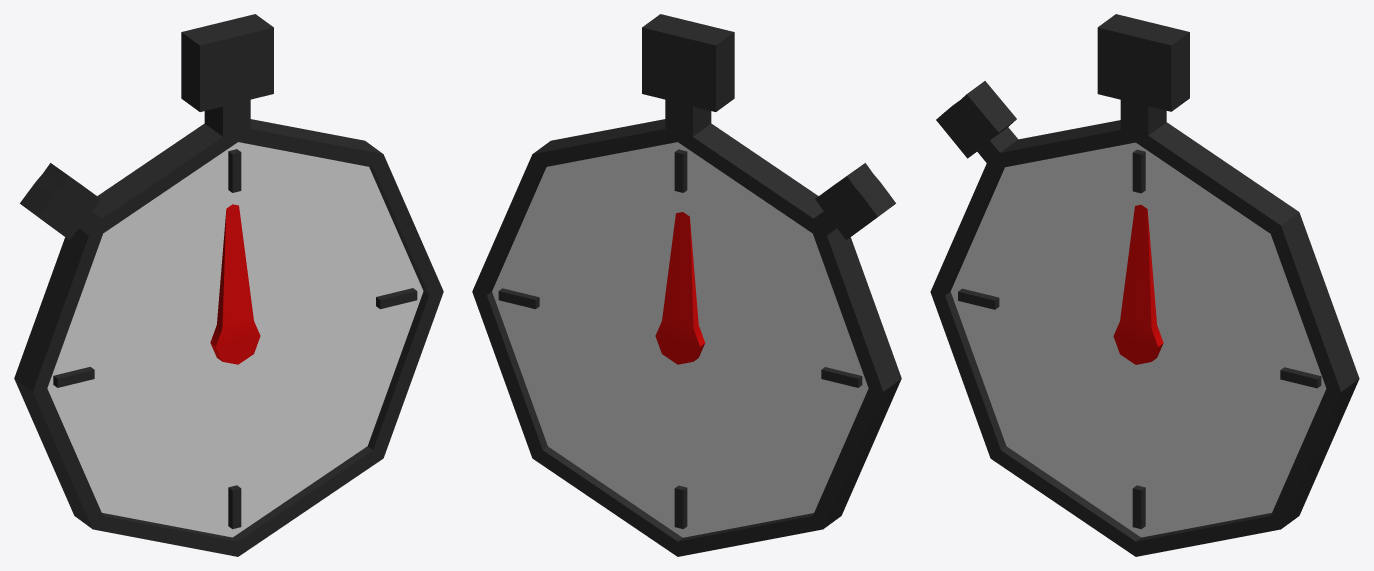
The model's file is Collectable Stop Watch.fbx.
3 renders of one model, left to right at view 1: azimuth 30°, elevation 25°; view 2: azimuth 150°, elevation 25°; view 3: azimuth 330°, elevation 25°, orthographic.
Parts seen in each view (by area): view 1: pCube5; view 2: pCube5; view 3: pCube5.
Boxes of the visible parts, left/top/right/bottom form: pCube5: left=14, top=14, right=443, bottom=556; pCube5: left=472, top=14, right=901, bottom=556; pCube5: left=930, top=14, right=1359, bottom=556.
Bounding box in the file's own units: 4.93 × 5.96 × 0.3833.
